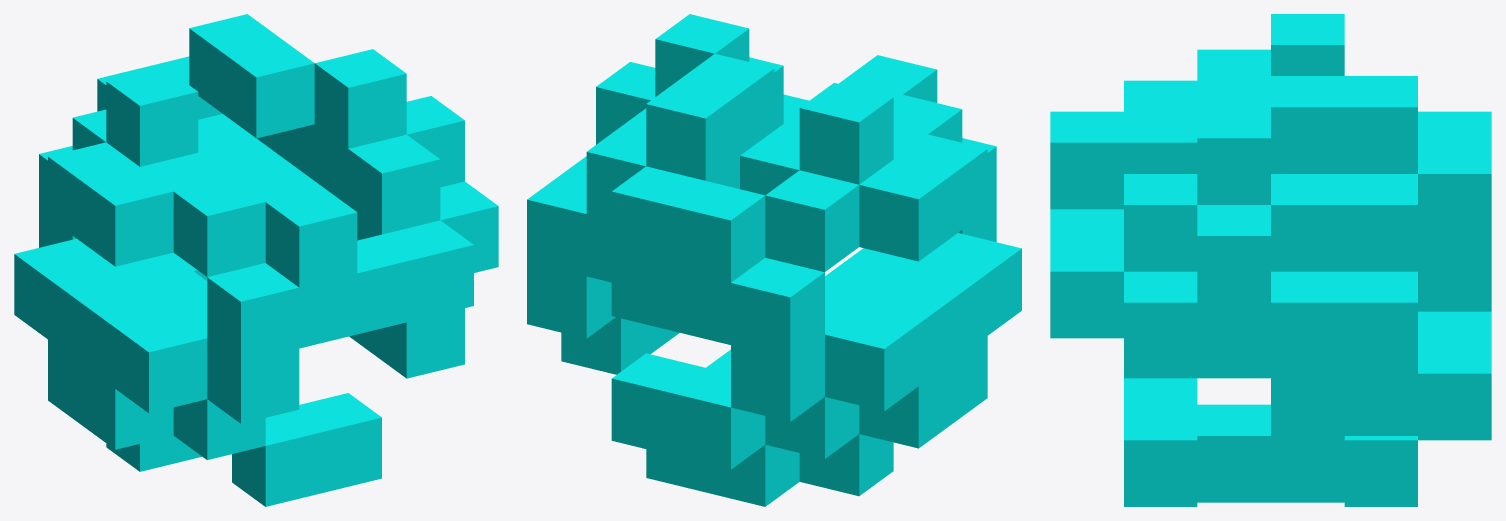
File: planeta-6a.obj
3 renders of one model, left to right at view 1: azimuth 30°, elevation 25°; view 2: azimuth 150°, elevation 25°; view 3: azimuth 270°, elevation 25°, orthographic. The views are drawn at different scales.
Bounding box in the file's own units: 0.6 × 0.6 × 0.6.
1 material, 1 textured.
